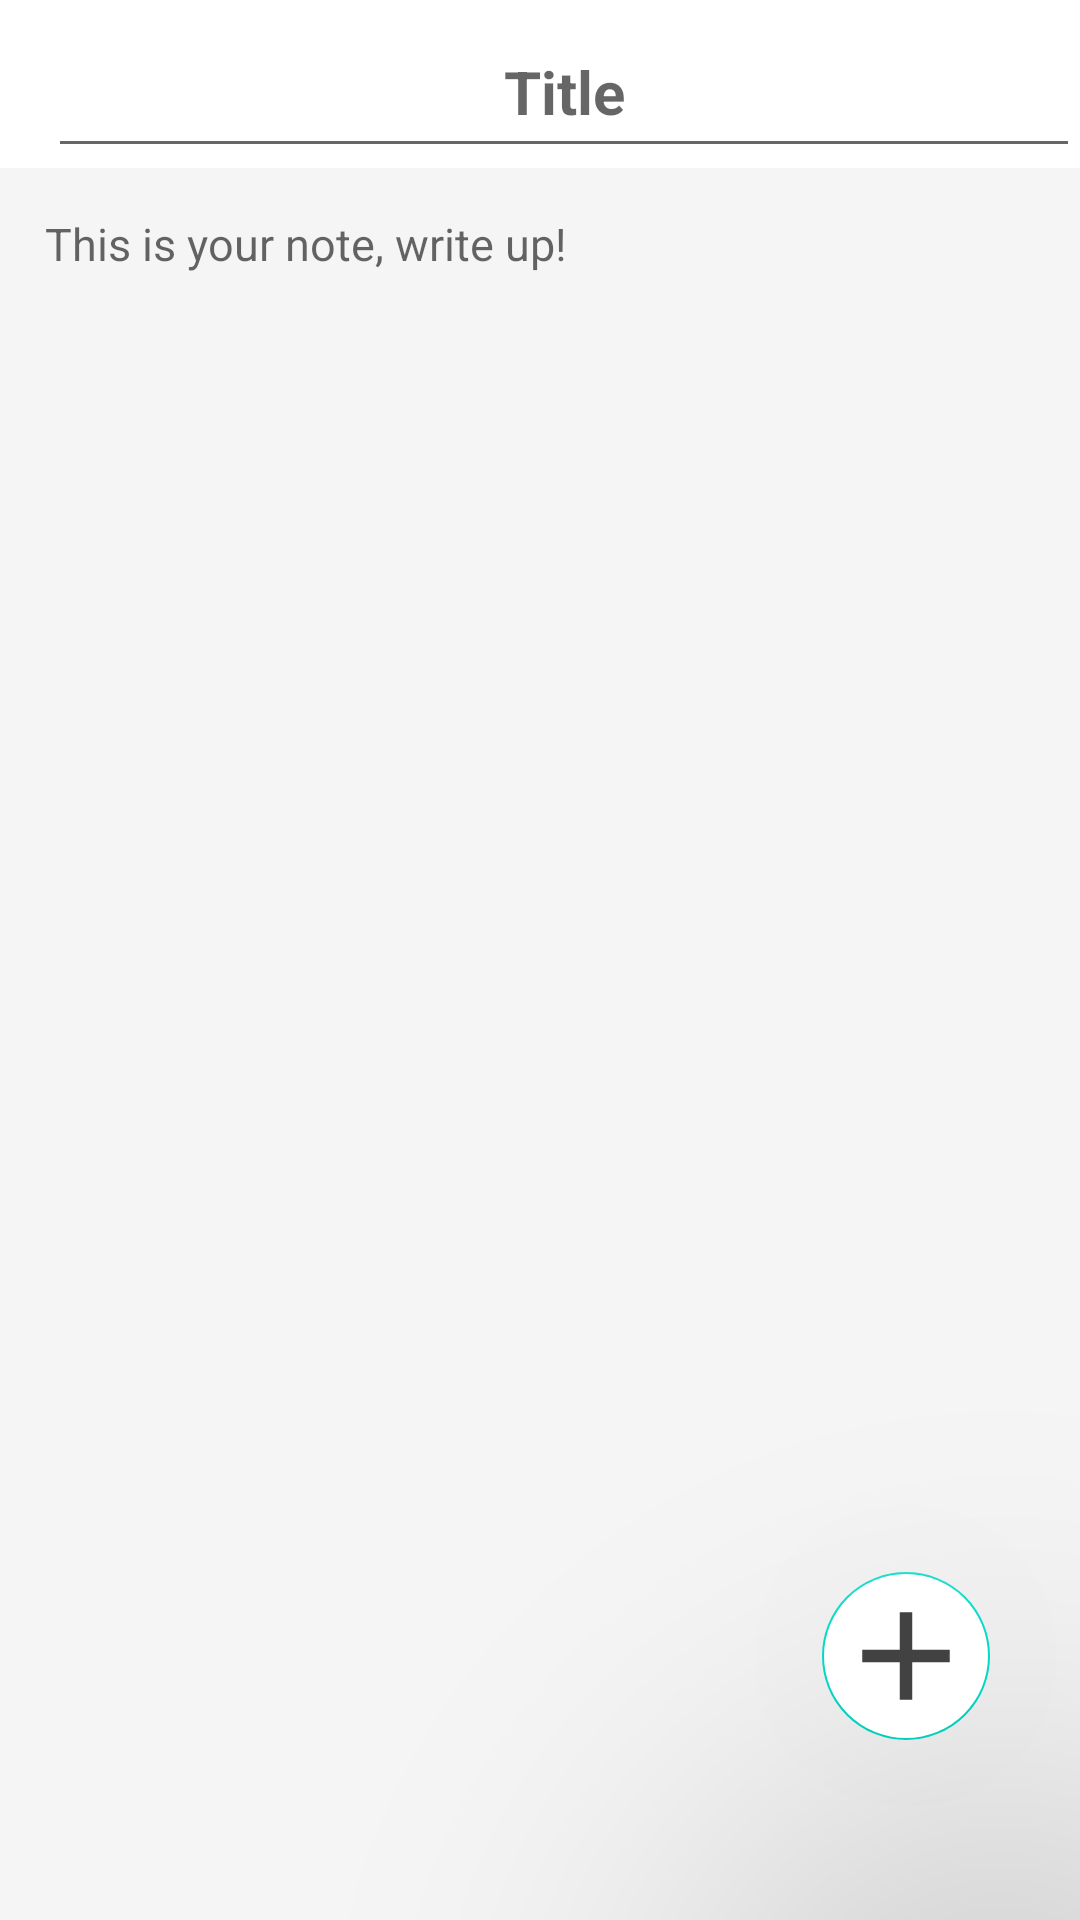

Locate icon controls on the screen. Image size 1080w x 1920h, boxes as box=[x1, y1, x2, y2].
add: box=[822, 1572, 990, 1740]
